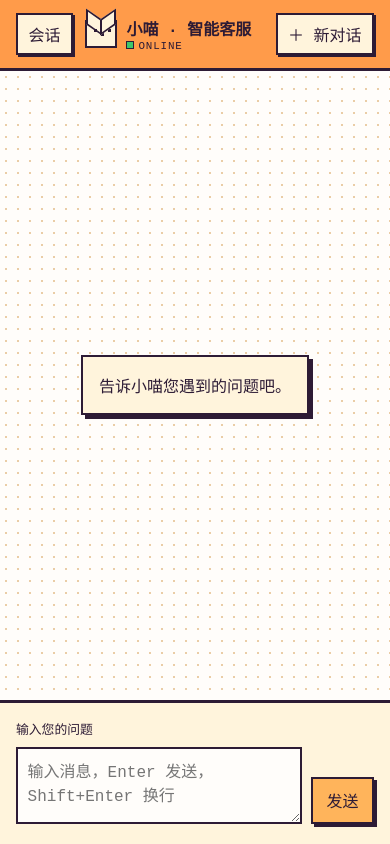
Test: App › starts with the sidebar collapsed on narrow screens and opens it from the header
Click the button with aria-label "打开会话列表": (44,34) [16,13,73,55]
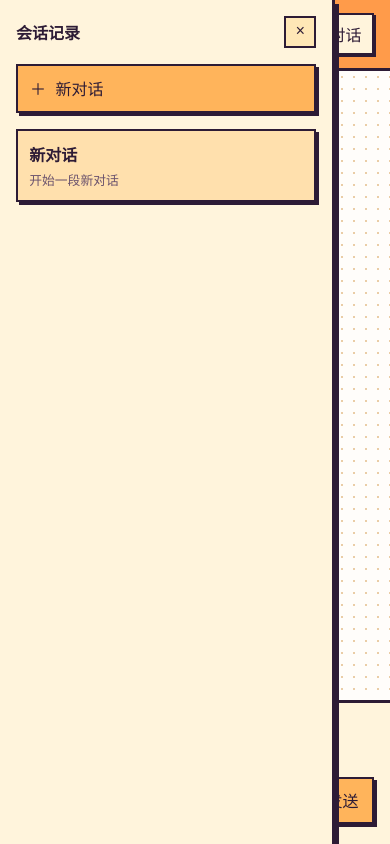
Now the element with class "session-sidebar" is shown
